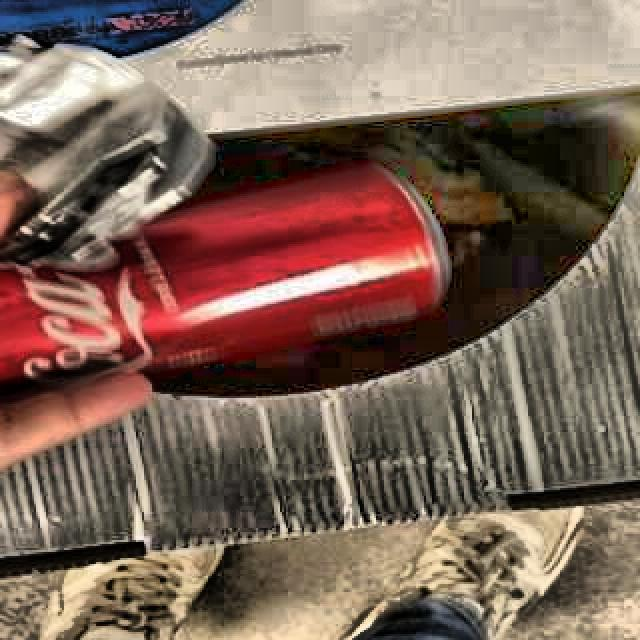metal: (0, 38, 448, 391)
